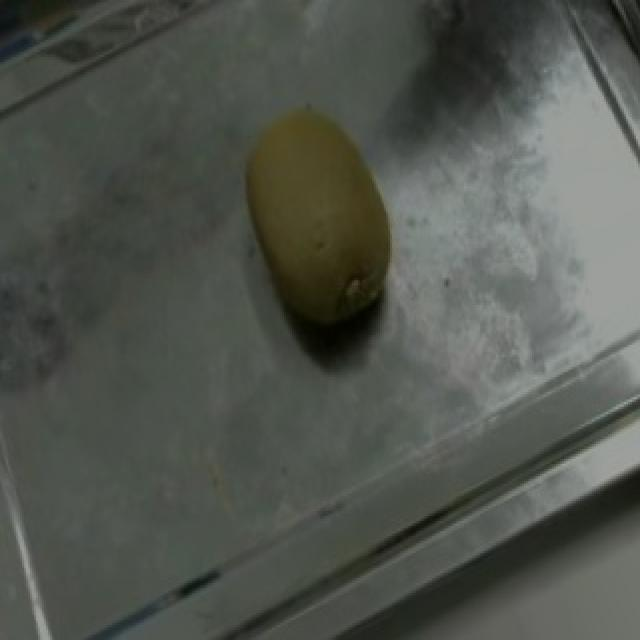Fruit: (202, 77, 434, 377)
